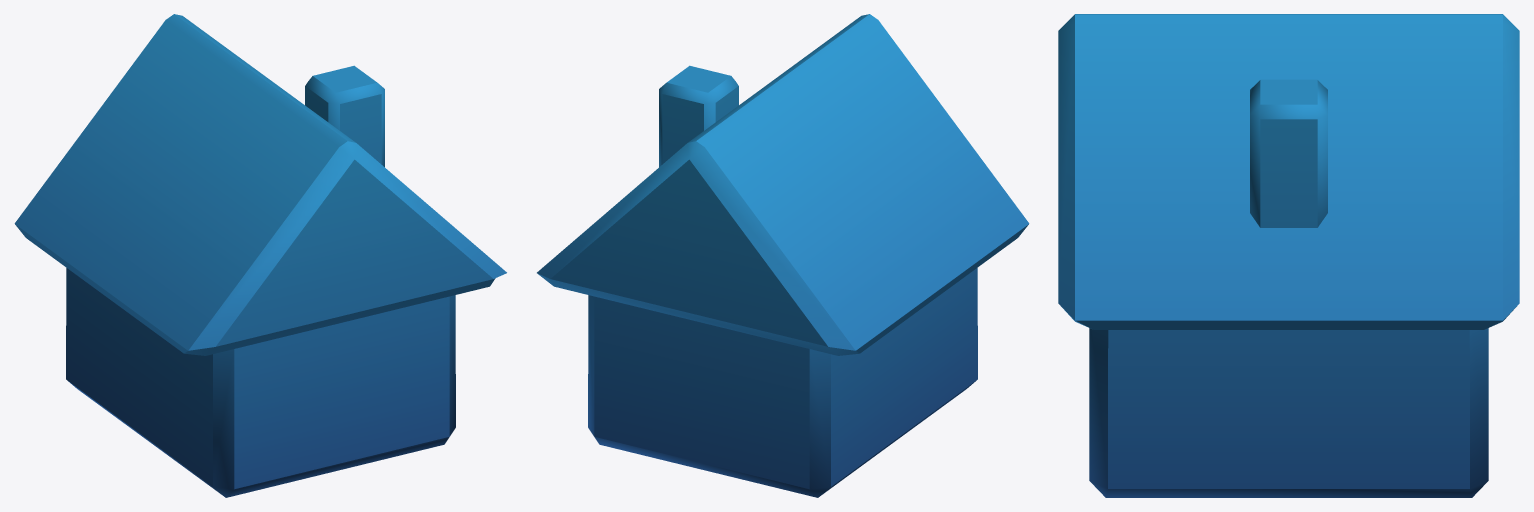
The model's file is building-blue.glb.
The picture shows the model from 3 angles, left to right: view 1: azimuth 30°, elevation 25°; view 2: azimuth 150°, elevation 25°; view 3: azimuth 270°, elevation 25°; orthographic projection. The views are drawn at different scales.
Visible parts, largest first — view 1: building_blue; view 2: building_blue; view 3: building_blue.
Boxes of the visible parts, x1=… form: building_blue: x1=14, y1=14, x2=506, y2=497; building_blue: x1=537, y1=14, x2=1029, y2=497; building_blue: x1=1058, y1=14, x2=1519, y2=497.
Size of the model in its own units: 0.9847 by 1 by 1.
1 material, 1 textured.
